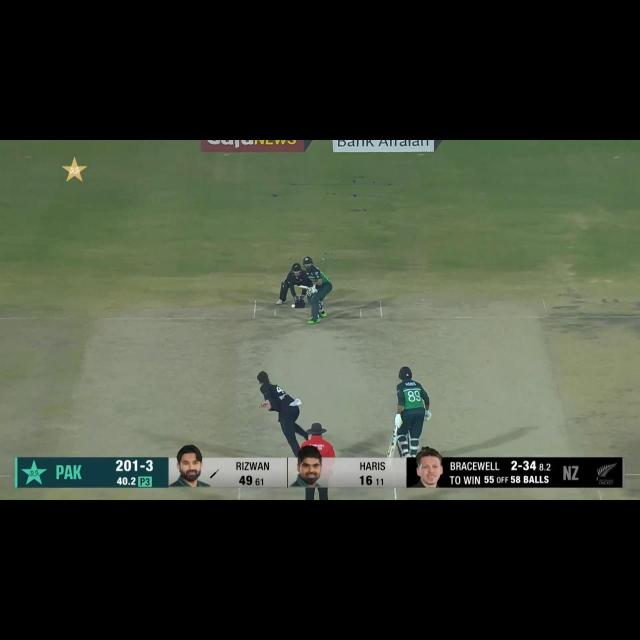bat: (387, 436, 397, 459), (297, 283, 309, 291)
toe: (296, 284, 302, 290)
